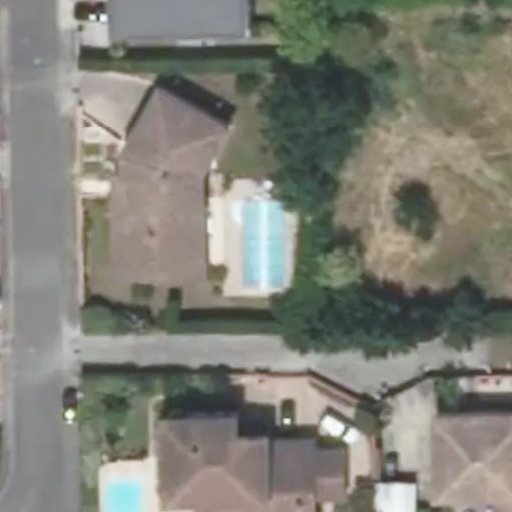pool: (229, 199, 282, 284)
